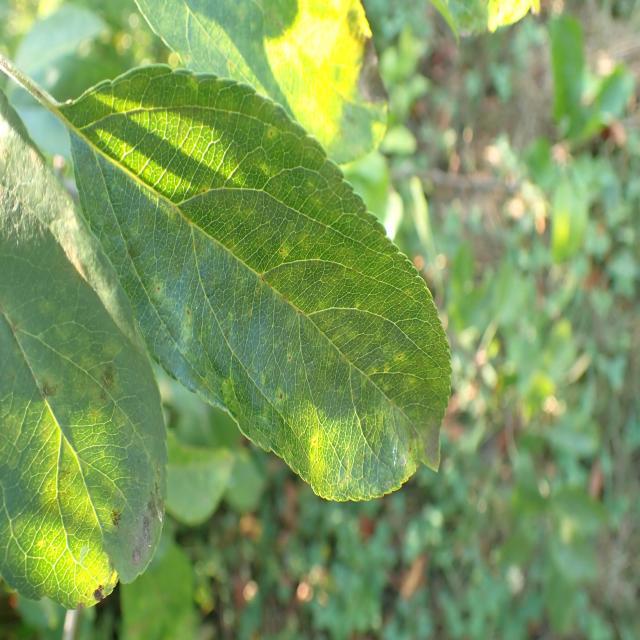scab: (95, 76, 455, 478), (7, 296, 172, 611)
